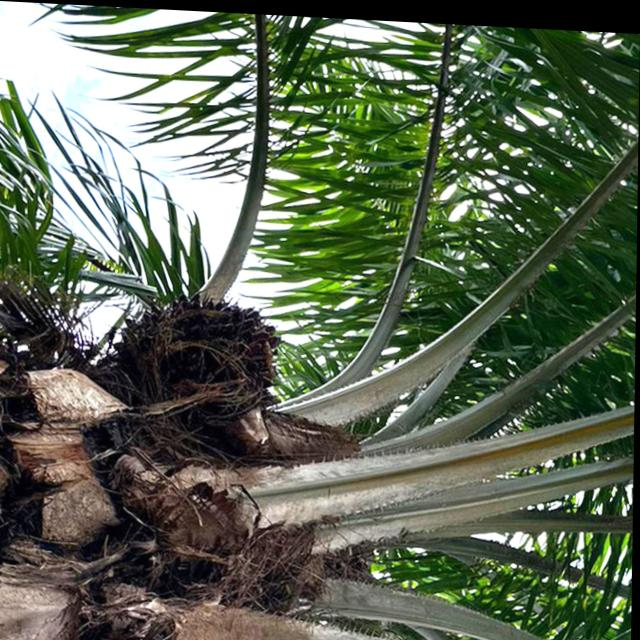ripe: (148, 296, 287, 428)
